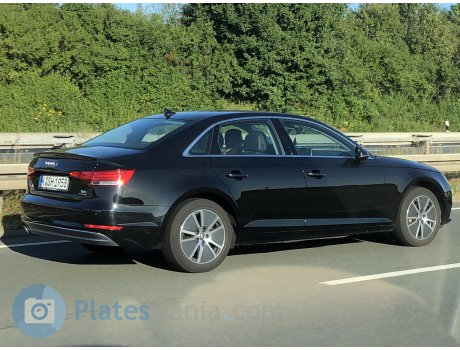License Plates: (36, 174, 71, 188)
